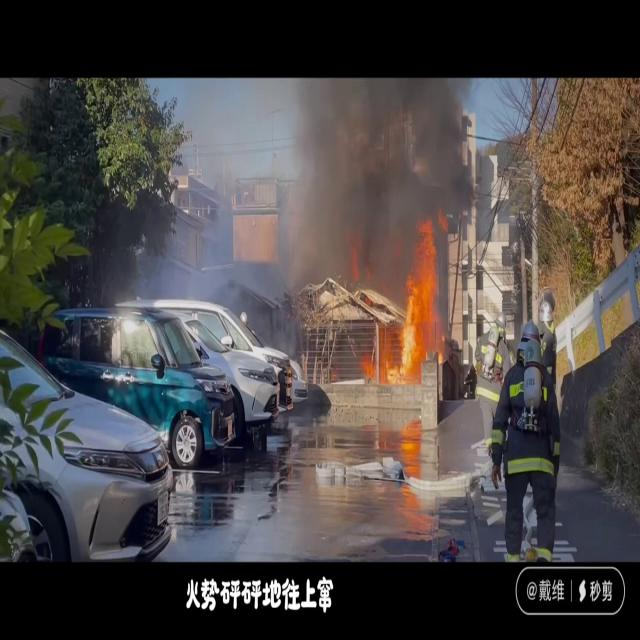Fire: (363, 218, 447, 385)
Smoke: (264, 78, 482, 275)
